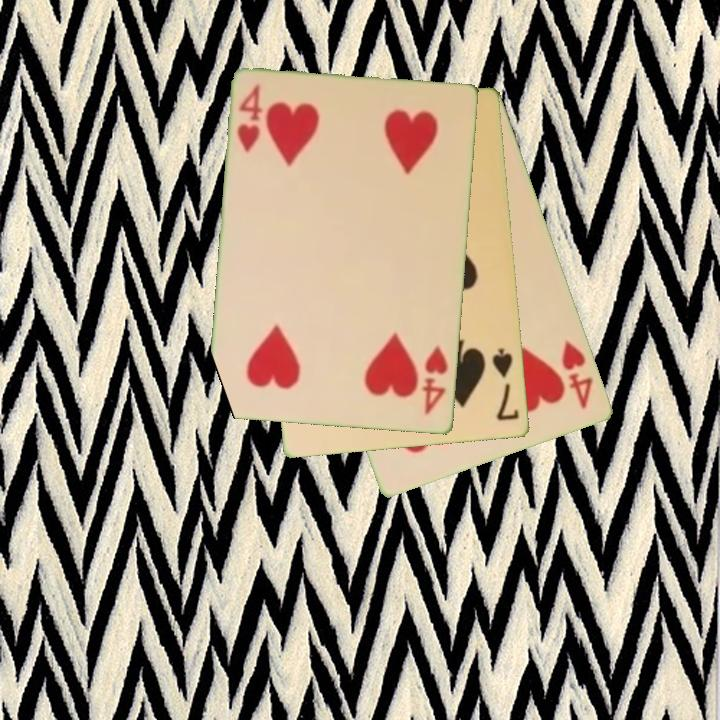4h: (558, 337, 596, 413), (419, 342, 452, 418), (234, 81, 266, 156)
7s: (489, 345, 523, 424)
